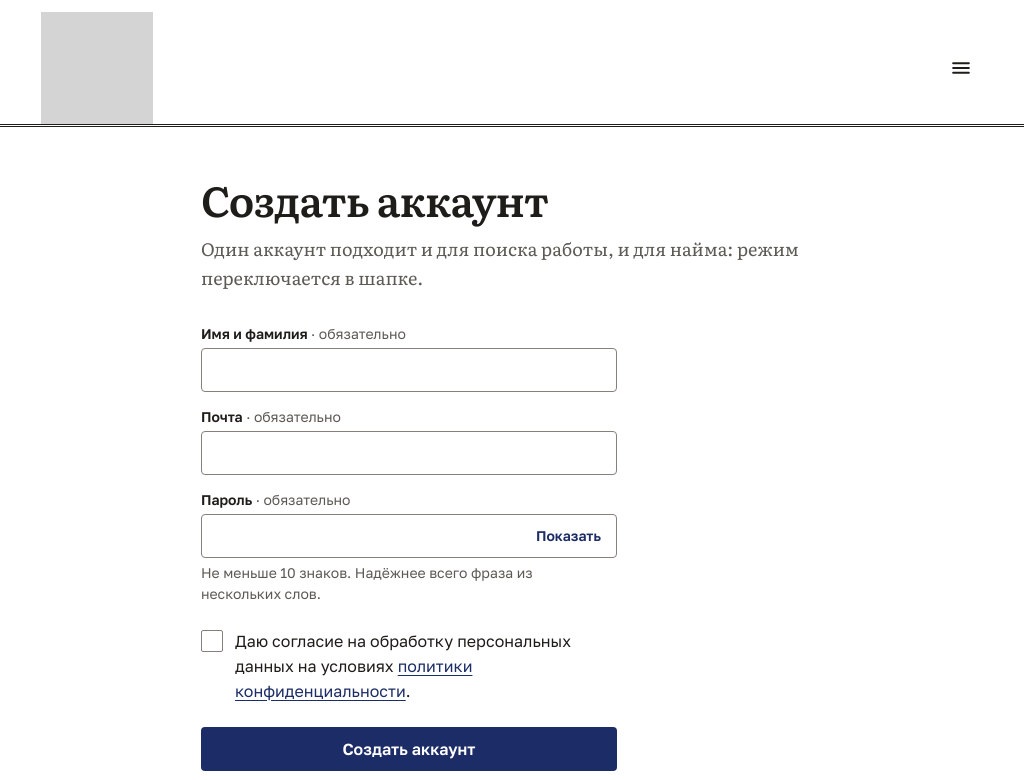
Test case: RegisterPage › checks the address shape and password length in the browser
In the field labelled "Имя и фамилия · обязательно": (409, 370) [201,348,617,392], type "Анна"
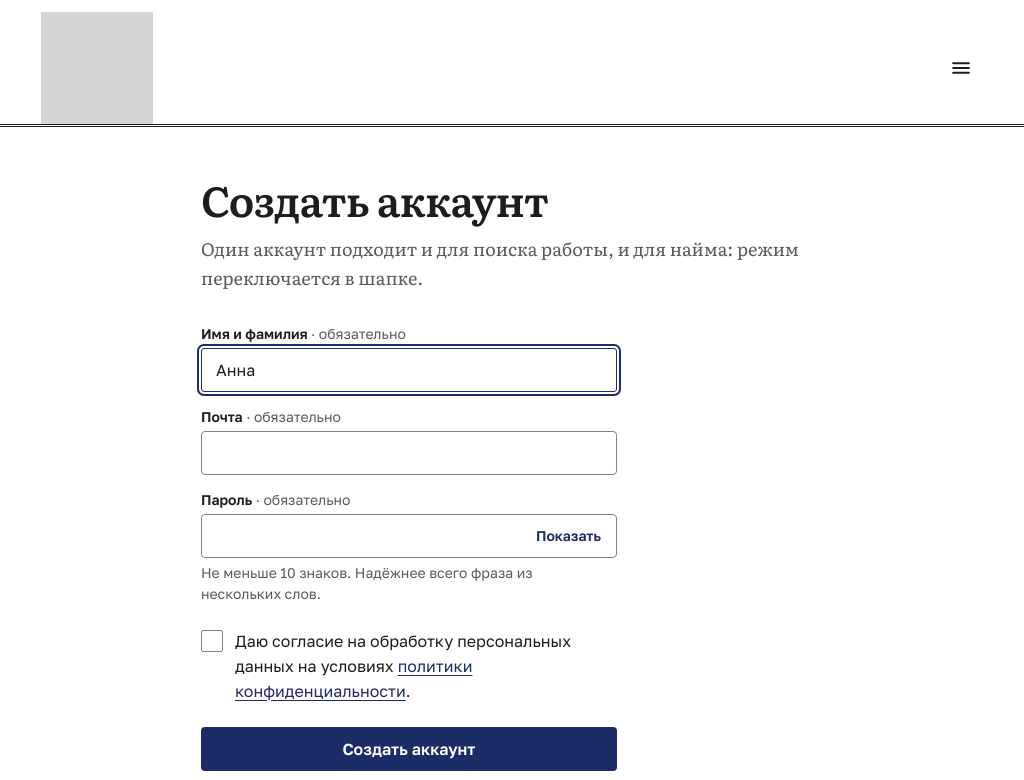
In the field labelled "Почта · обязательно": (409, 453) [201,431,617,475], type "anna@"
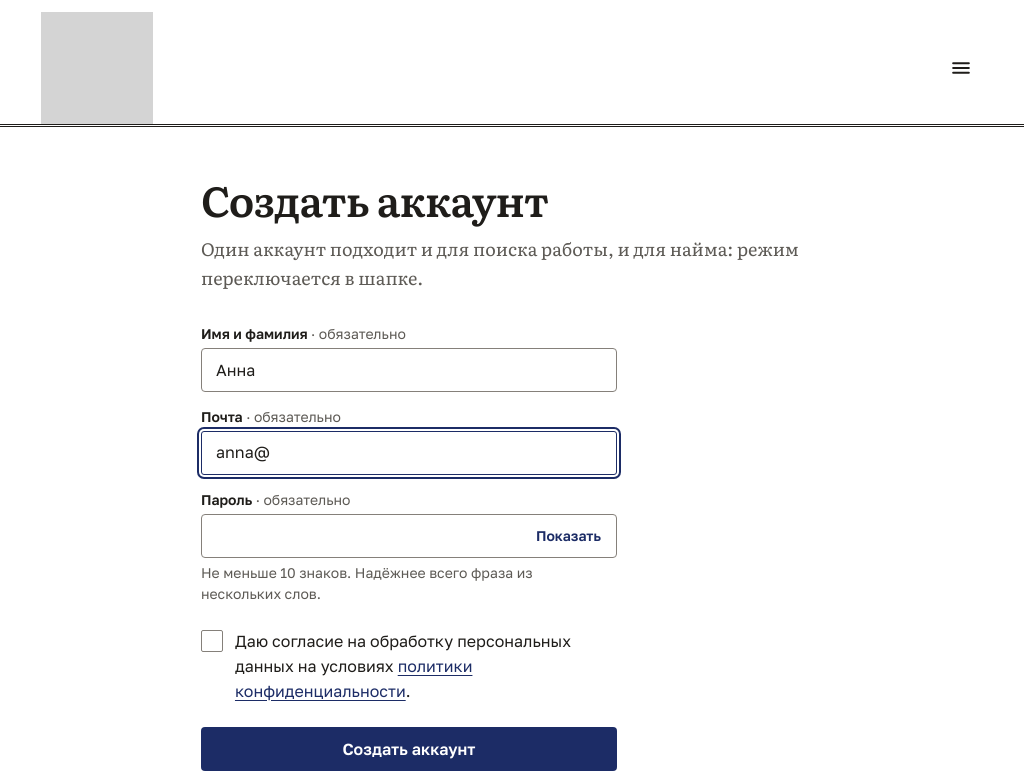
In the password field labelled "Пароль · обязательно": (409, 536) [201,514,617,558], type "коротко"
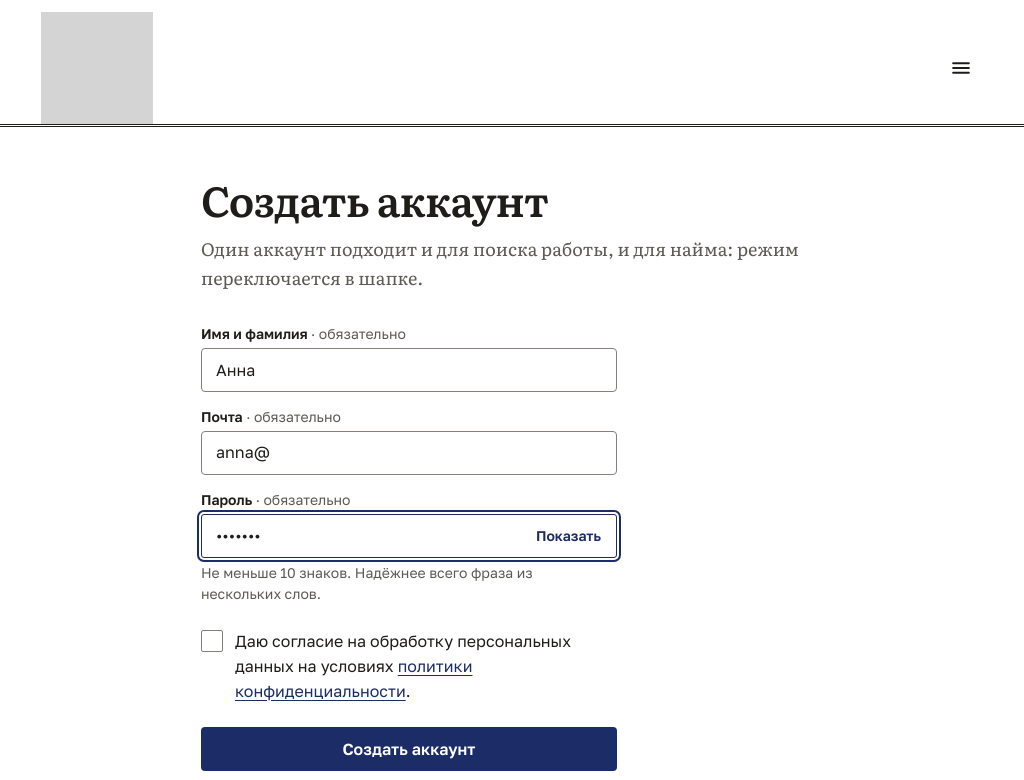
Click the button "Создать аккаунт": (409, 749) [201,727,617,771]
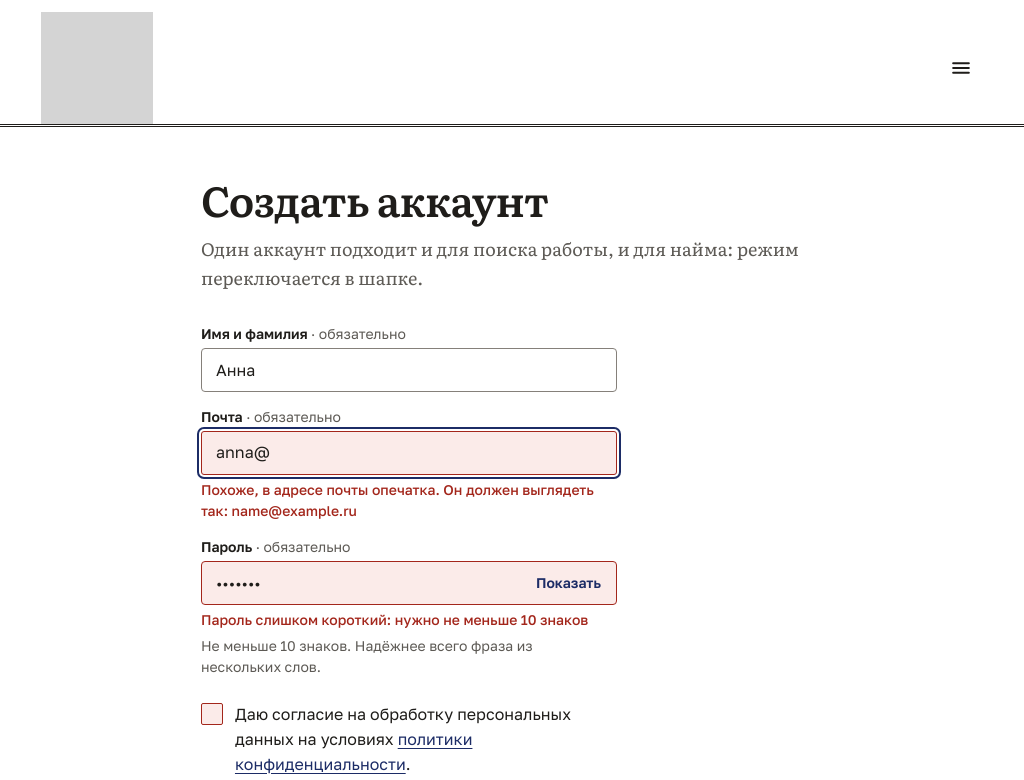
Now the text "опечатка" is shown, box [201,481,594,519]
Now the text "Пароль слишком короткий: нужно не меньше 10 знаков" is shown, box [201,609,617,631]
